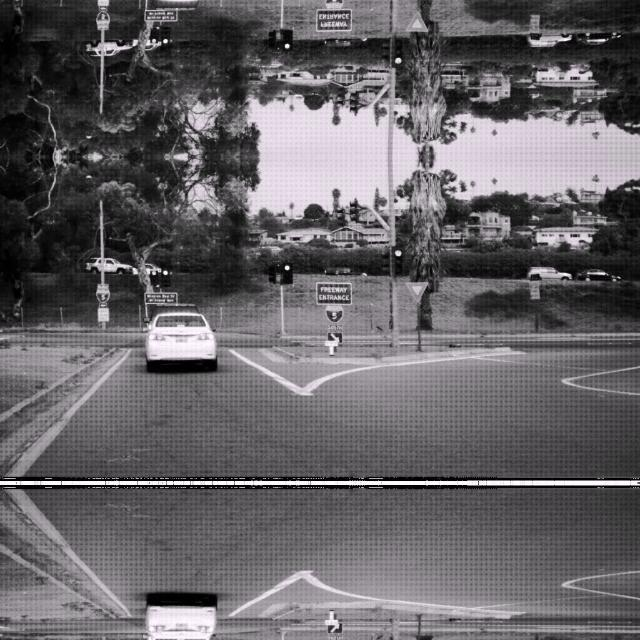yield: (404, 280, 428, 300), (404, 12, 428, 32)
